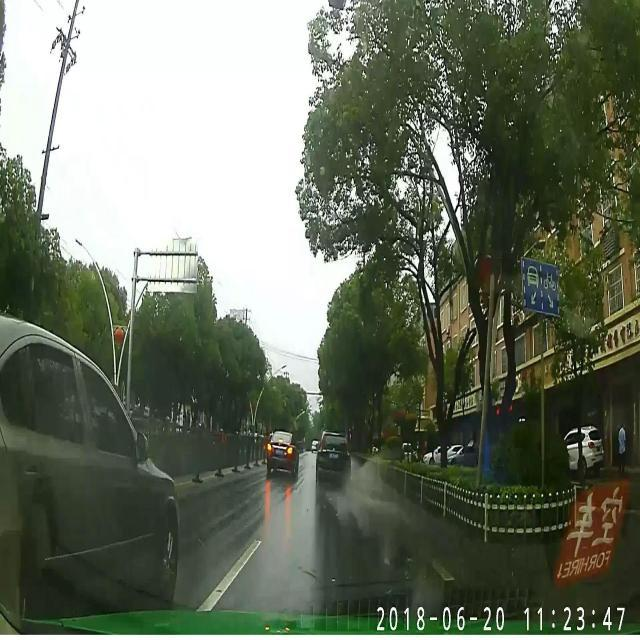car: (0, 317, 178, 611), (317, 429, 352, 481), (265, 428, 298, 471)
